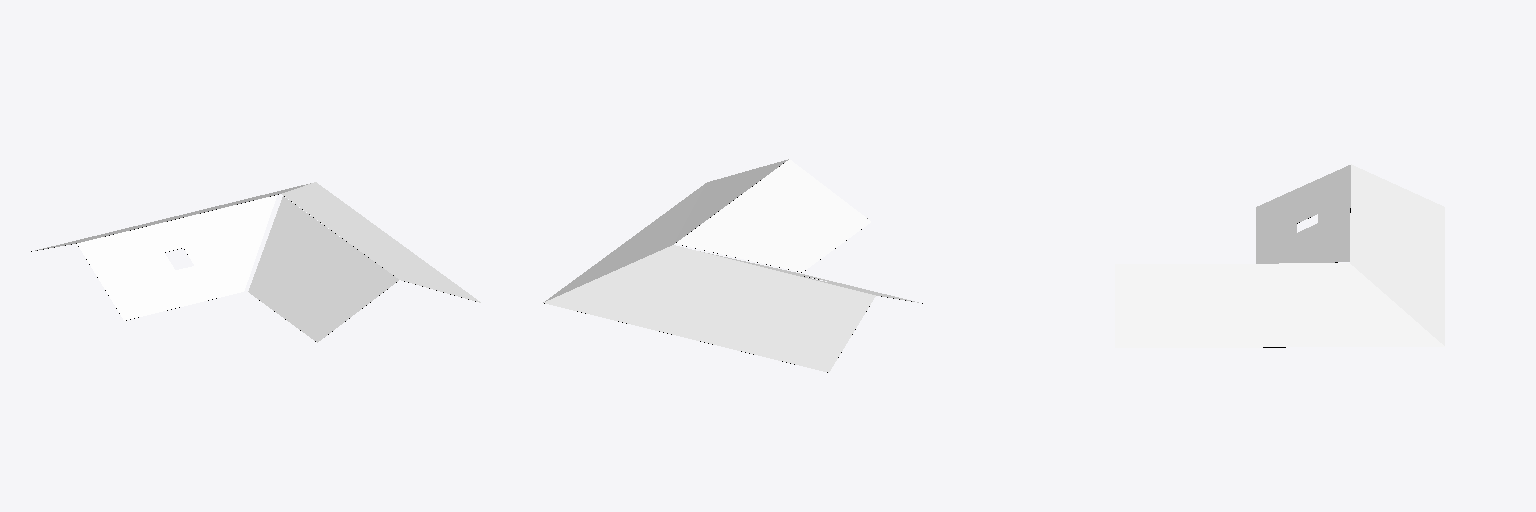
Rendered from underlayment.obj.
The picture shows the model from 3 angles: view 1: azimuth 30°, elevation 25°; view 2: azimuth 150°, elevation 25°; view 3: azimuth 270°, elevation 25°; orthographic projection.
Parts seen in each view (by area): view 1: underlayment; view 2: underlayment; view 3: underlayment.
Boxes of the visible parts, box(x1,y1,x2,y2) form: underlayment: box(31, 182, 480, 342); underlayment: box(543, 159, 922, 372); underlayment: box(1115, 164, 1444, 347).
Bounding box in the file's own units: 1136 × 166 × 1132.